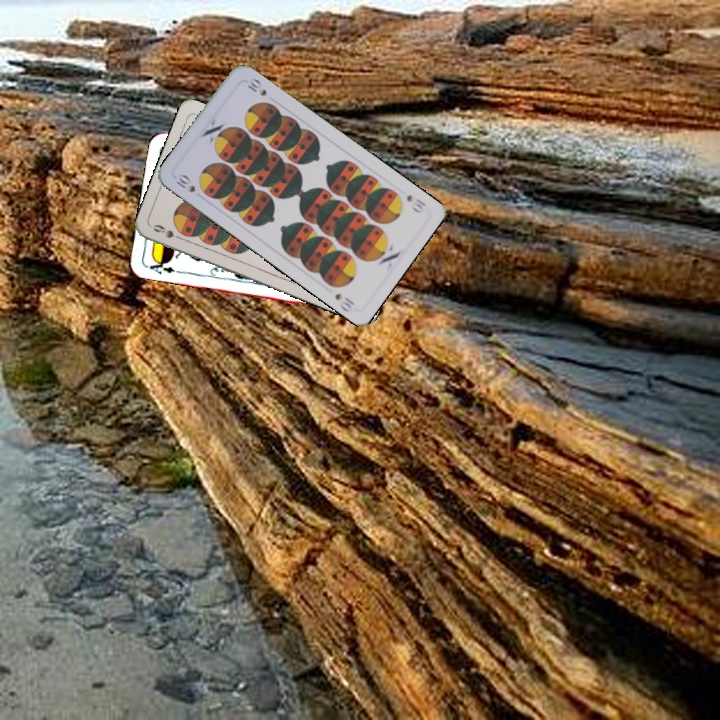EA: (142, 255, 183, 277)
S10: (172, 170, 198, 195), (402, 191, 428, 216)
S9: (149, 220, 187, 243)
